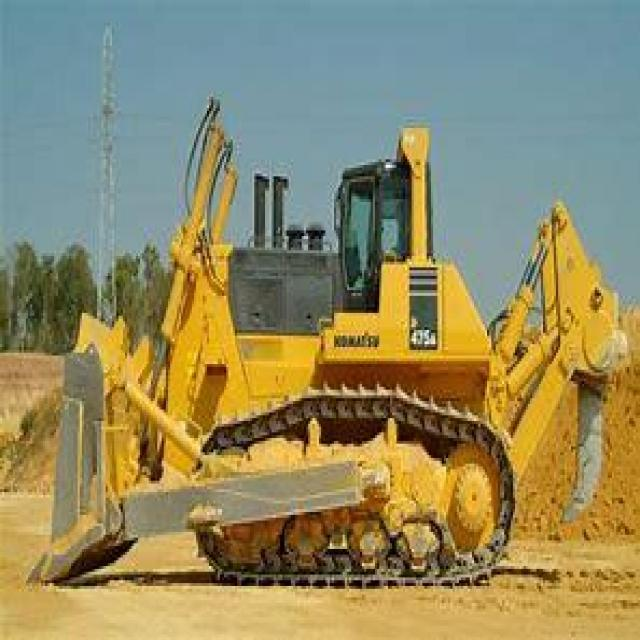Bulldozer: (24, 80, 638, 597)
